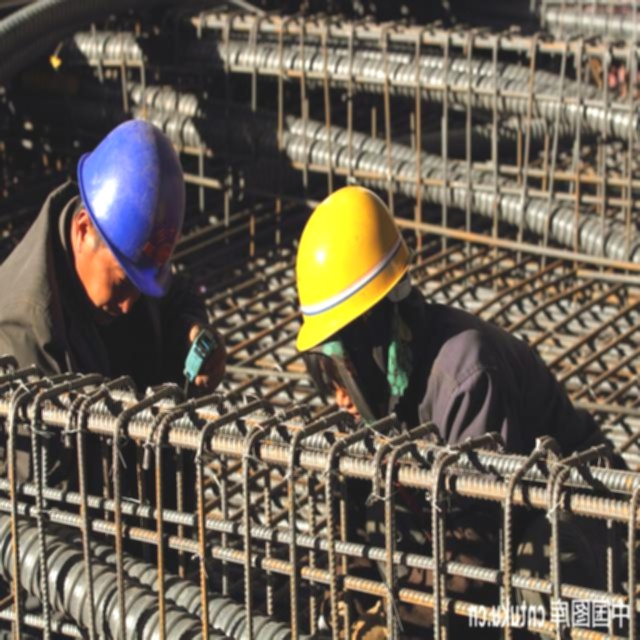Con_Casco: (294, 187, 412, 392), (75, 124, 188, 312)
